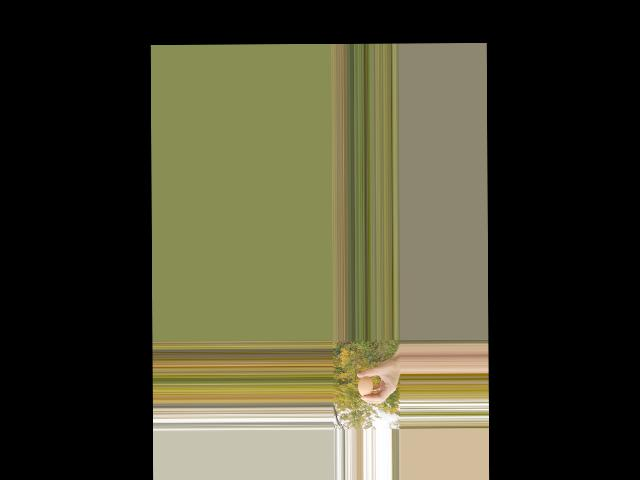egg: (357, 376, 372, 396)
